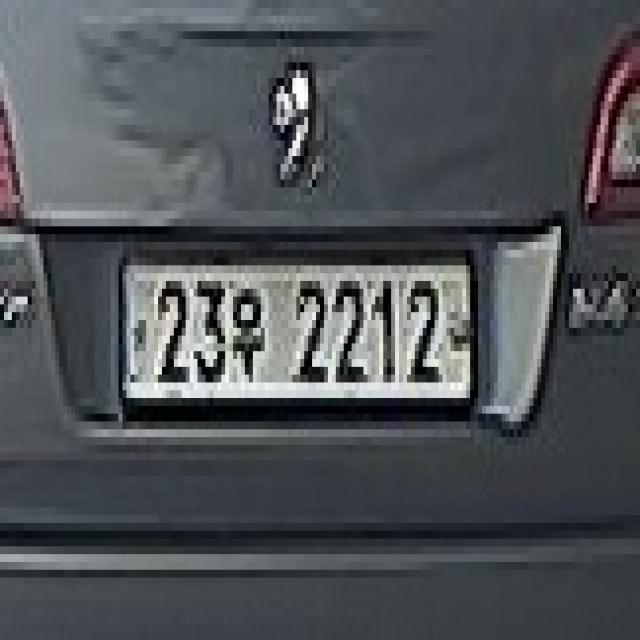1: (368, 268, 400, 388)
2: (404, 265, 446, 398), (150, 275, 192, 391), (292, 276, 331, 386), (334, 274, 368, 392)
3: (192, 270, 230, 392)
license_plate: (121, 254, 484, 416)
u: (230, 272, 270, 392)
